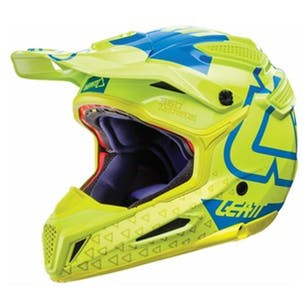with_helmet: (9, 21, 303, 288)
